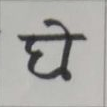i_matra: (48, 18, 76, 77)
